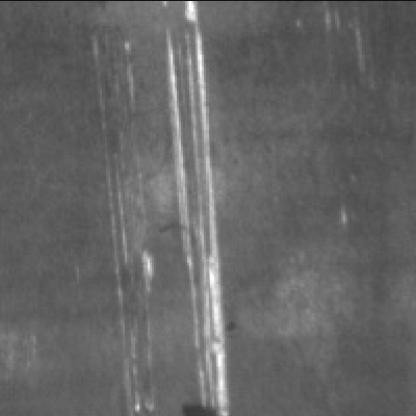scratches: (160, 0, 228, 412), (86, 36, 150, 408)
